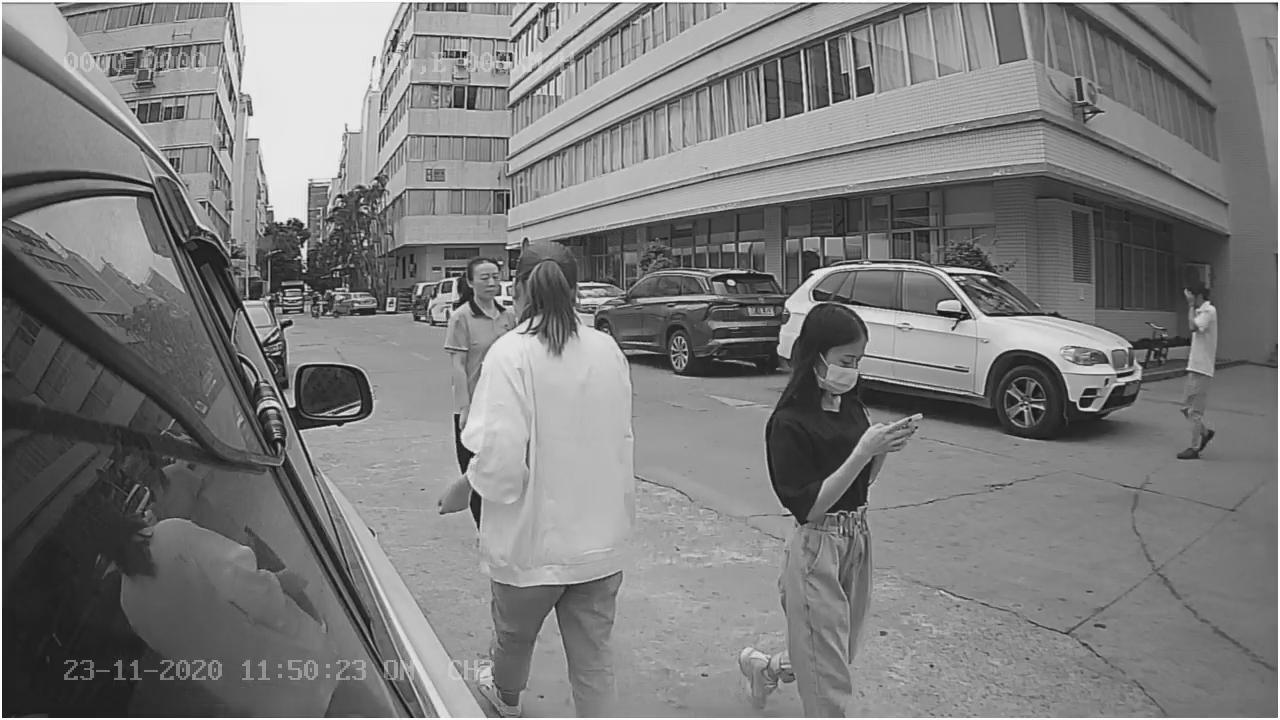person: (750, 303, 924, 538), (1173, 283, 1222, 458)
